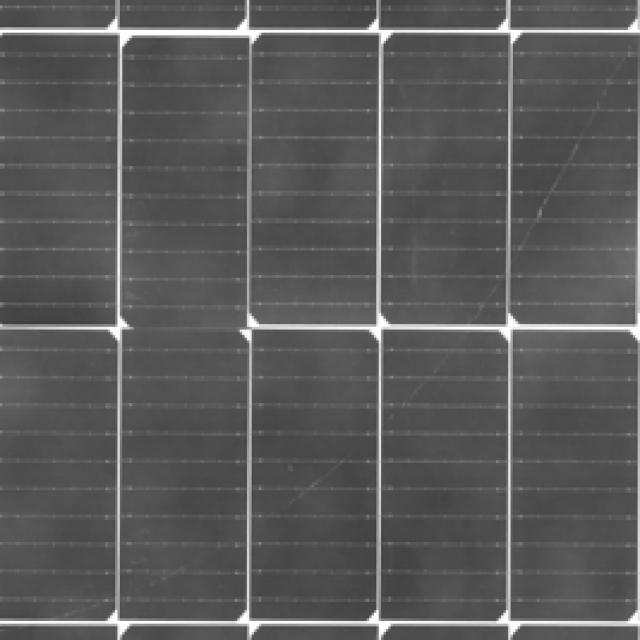CELL SHORT: (126, 308, 246, 344)
